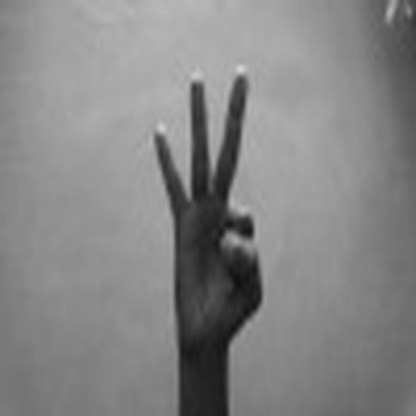f: (131, 59, 293, 338)
